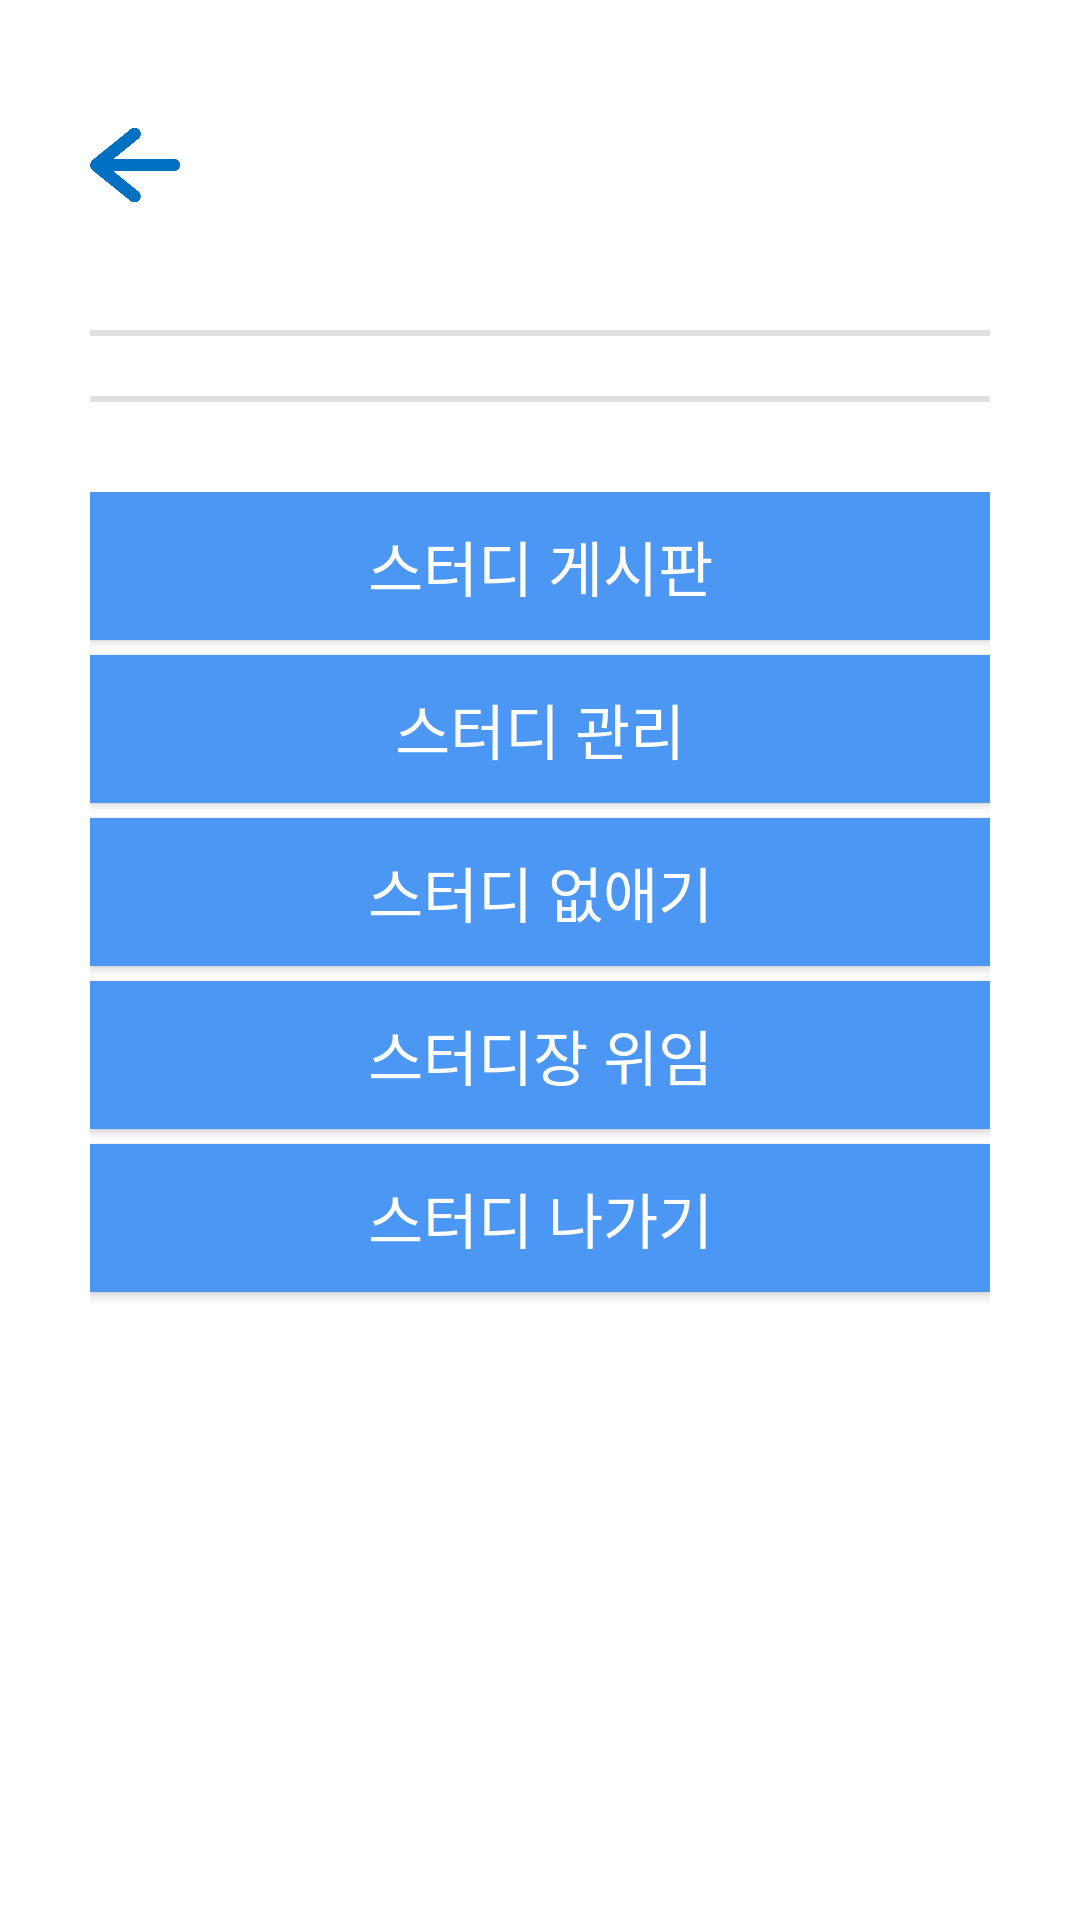

Icons on this 1080px×1920px Android screen, each with the point to tap as point (x, y):
back: point (135, 165)
